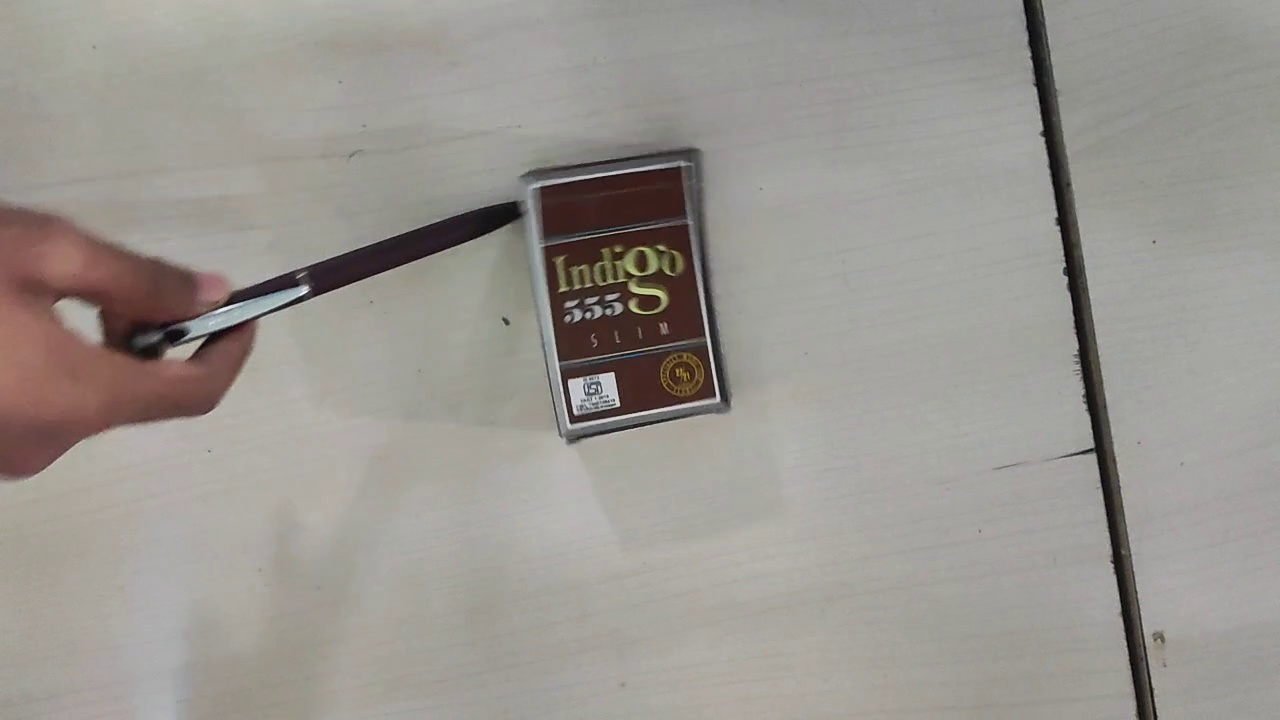BEX: (536, 163, 718, 424)
